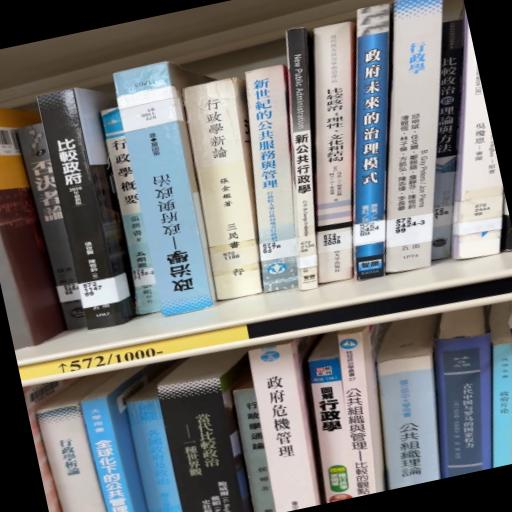book: (38, 88, 136, 330), (184, 78, 263, 300), (184, 79, 263, 300), (385, 1, 443, 272), (303, 23, 356, 283), (246, 65, 298, 292), (353, 5, 391, 280)
reverse: (114, 62, 217, 316)
